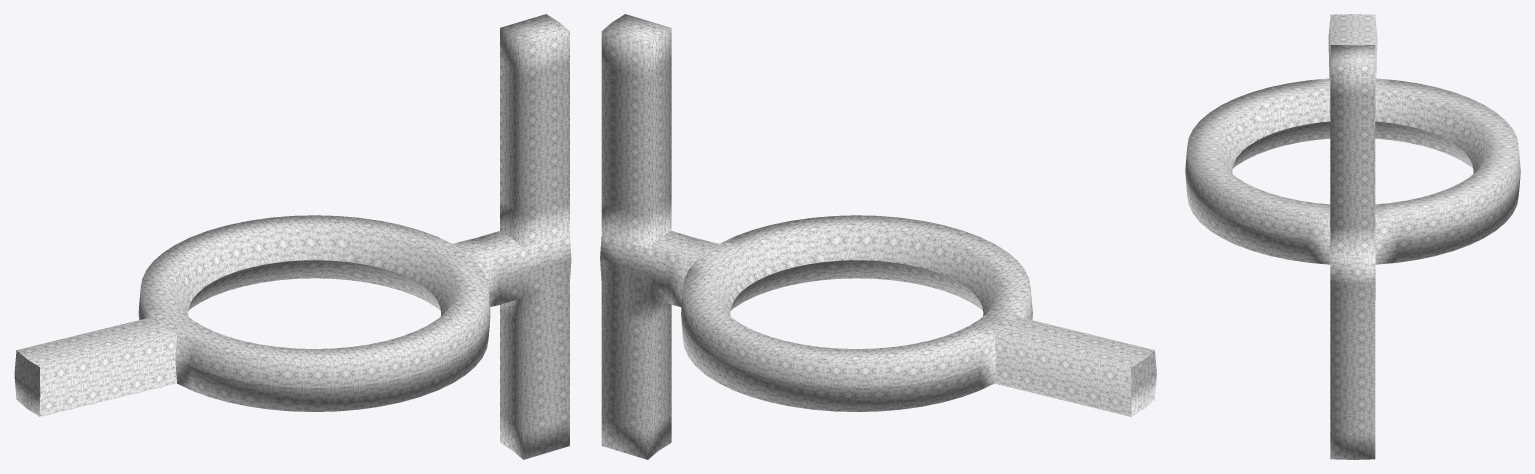
Rendered from torus_space_station5.fbx.
The picture shows the model from 3 angles, left to right: view 1: azimuth 30°, elevation 25°; view 2: azimuth 150°, elevation 25°; view 3: azimuth 270°, elevation 25°; orthographic projection. The views are drawn at different scales.
Visible parts, largest first — view 1: BezierCircle; view 2: BezierCircle; view 3: BezierCircle.
Boxes of the visible parts, x1,y1,x2,y2 form: BezierCircle: (14, 14, 571, 459); BezierCircle: (600, 14, 1156, 459); BezierCircle: (1185, 14, 1520, 459).
Bounding box in the file's own units: 1169 × 873 × 667.
